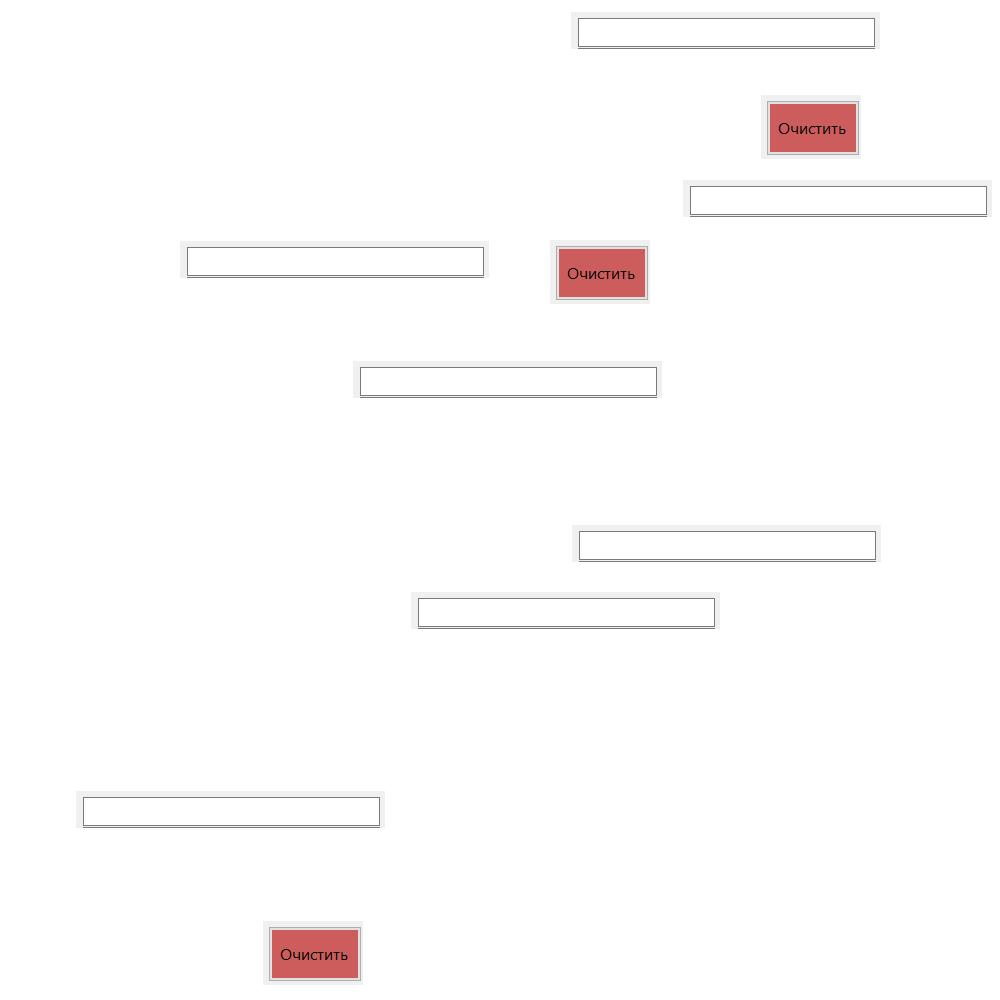Button: (550, 240, 650, 304), (761, 95, 861, 159), (263, 921, 363, 985)
EditText-: (76, 791, 385, 828), (572, 525, 881, 562), (683, 180, 992, 217), (353, 361, 662, 398), (180, 241, 489, 278), (411, 592, 720, 629), (571, 12, 880, 49)
